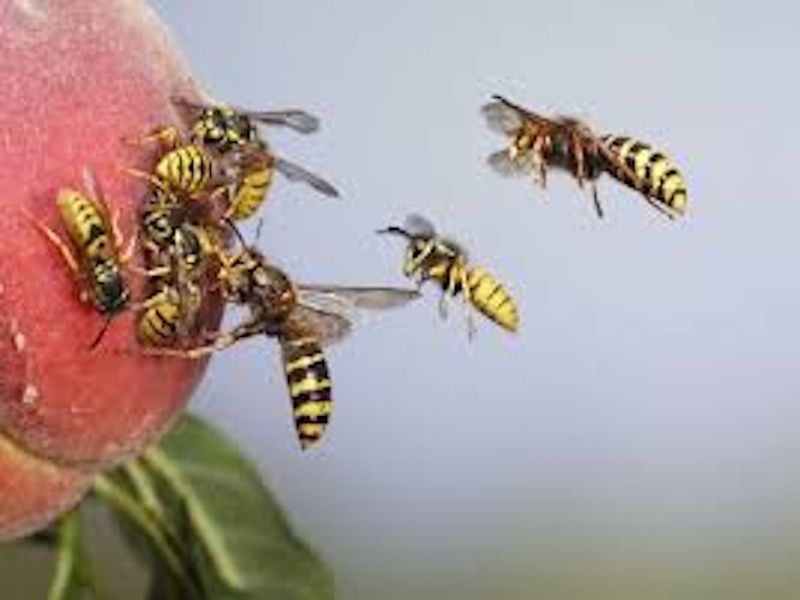chax: (455, 60, 709, 234), (208, 230, 367, 471), (381, 196, 552, 359), (194, 81, 330, 222), (29, 169, 135, 344), (119, 201, 214, 365)
